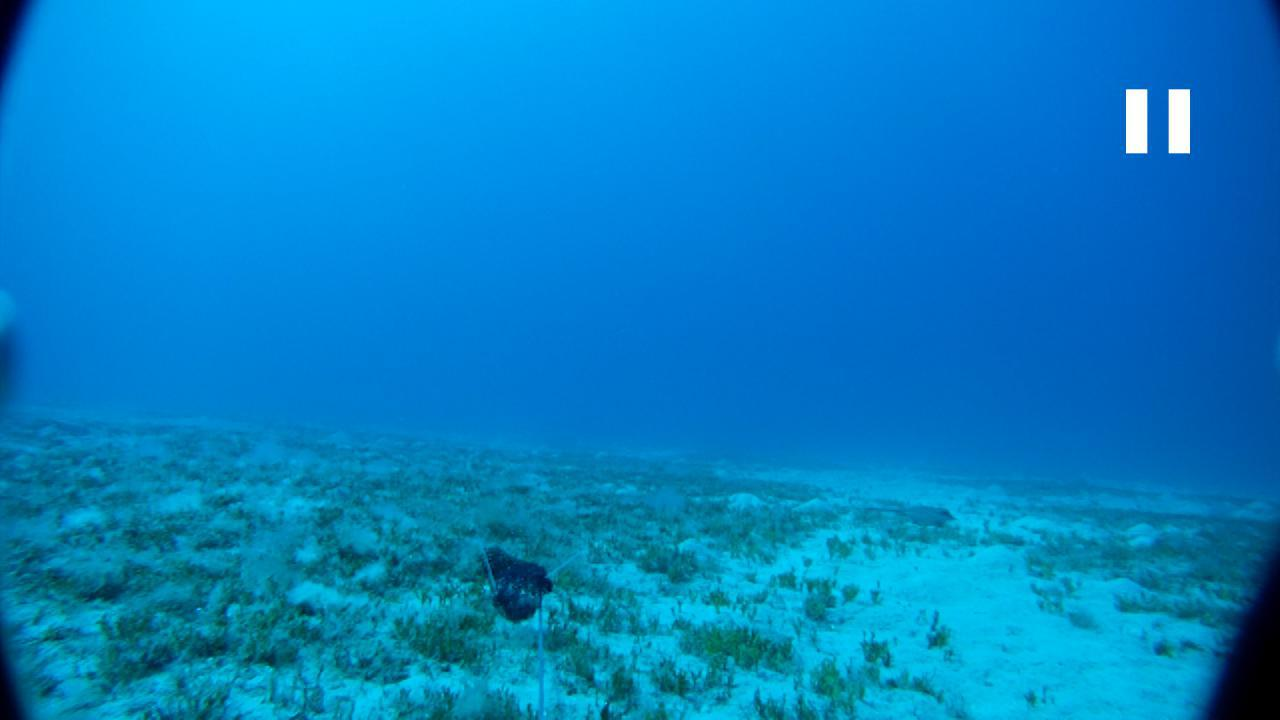dasyatis: (862, 504, 958, 526)
